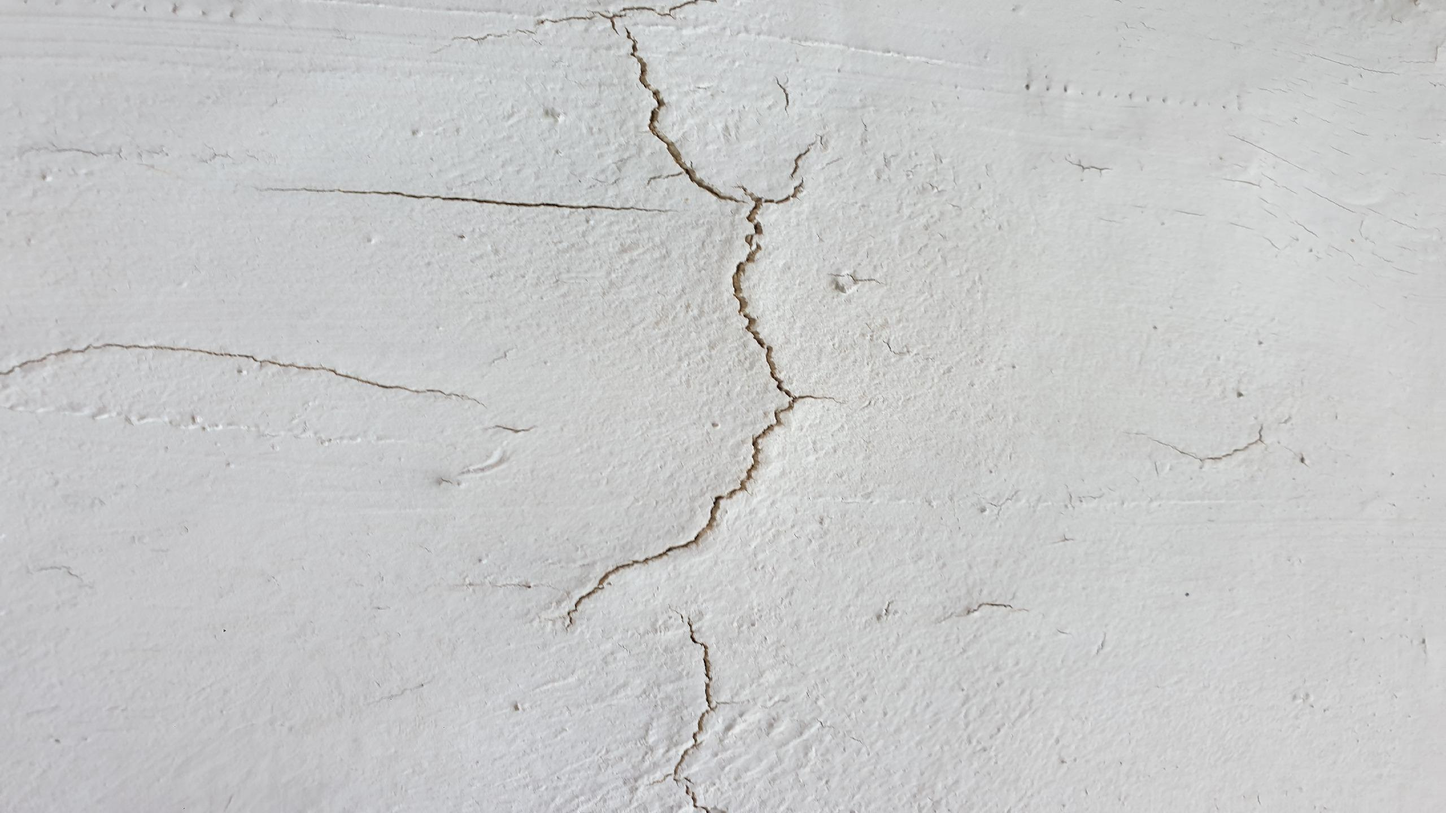crack: (560, 42, 806, 617), (7, 336, 461, 409), (288, 170, 634, 222), (668, 633, 715, 810)
